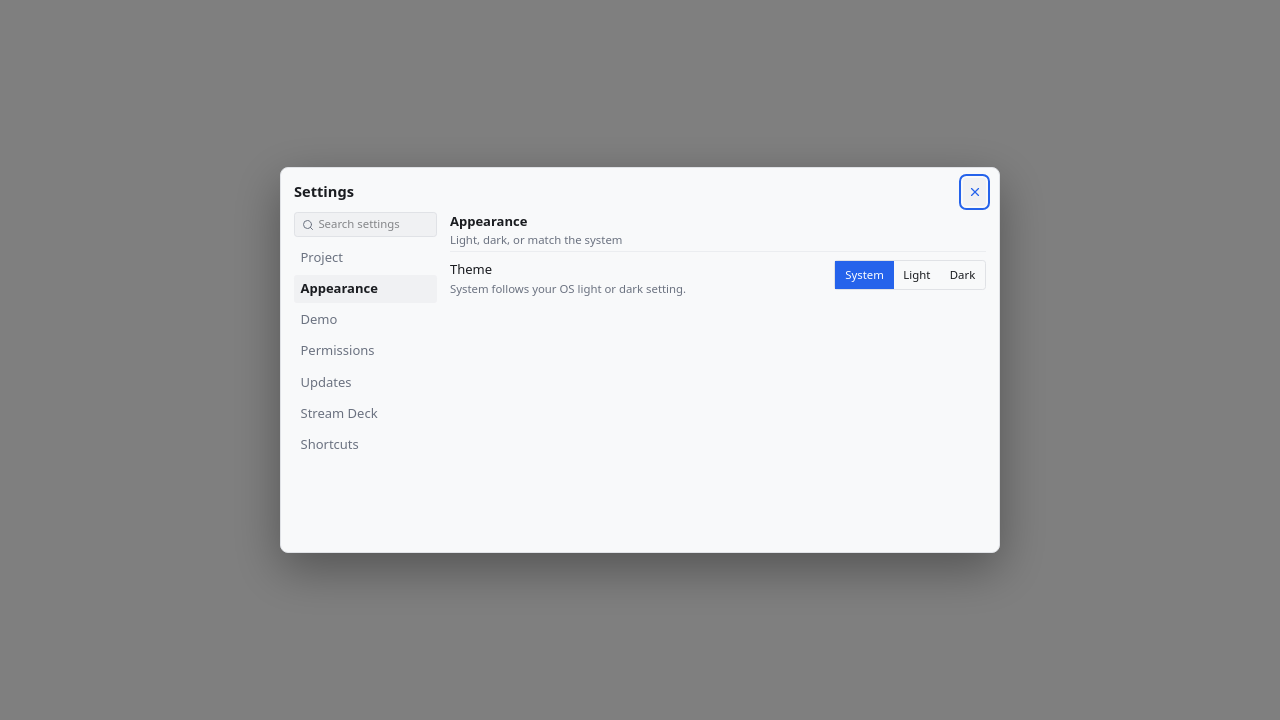
Test: SettingsDialog › shows every matching section while searching
Type "hotkeys" into the search field with test id "settings-search" at (374, 225), box [318,216,430,233]
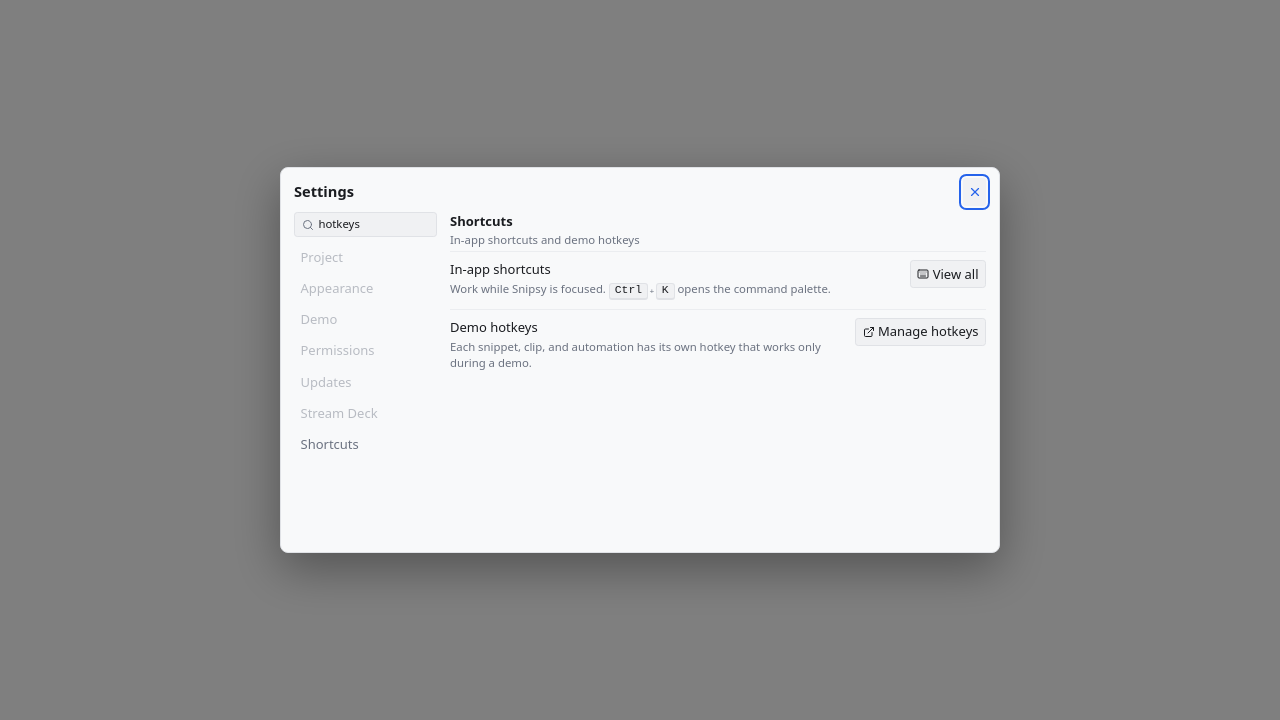
Result: the element with test id "settings-section-shortcuts" is shown at [450,212,986,379]
Result: the element with test id "settings-section-appearance" is gone
Replace the text in the search field with test id "settings-search" with "zzz" at (374, 225), box [318,216,430,233]
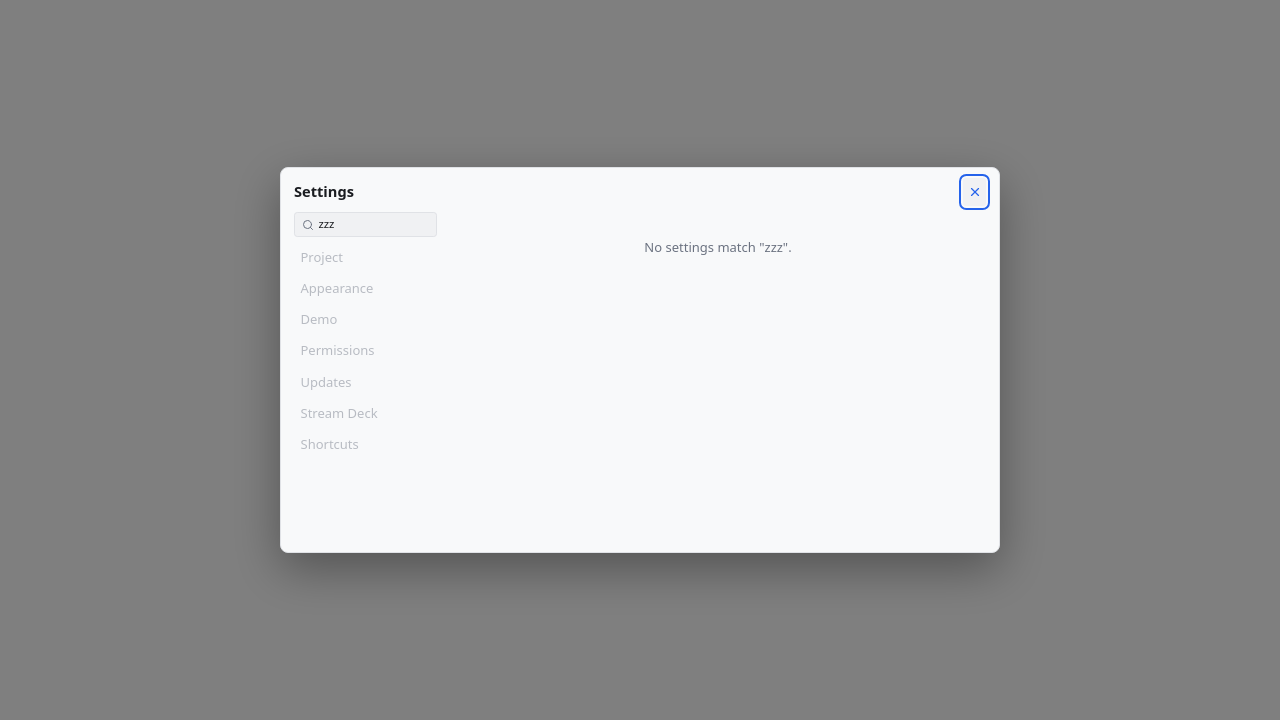
Result: the text "No settings match \"zzz\"." is shown at [644,238,792,256]
Click the button with test id "settings-nav-updates" at (366, 382), box [294,368,437,396]
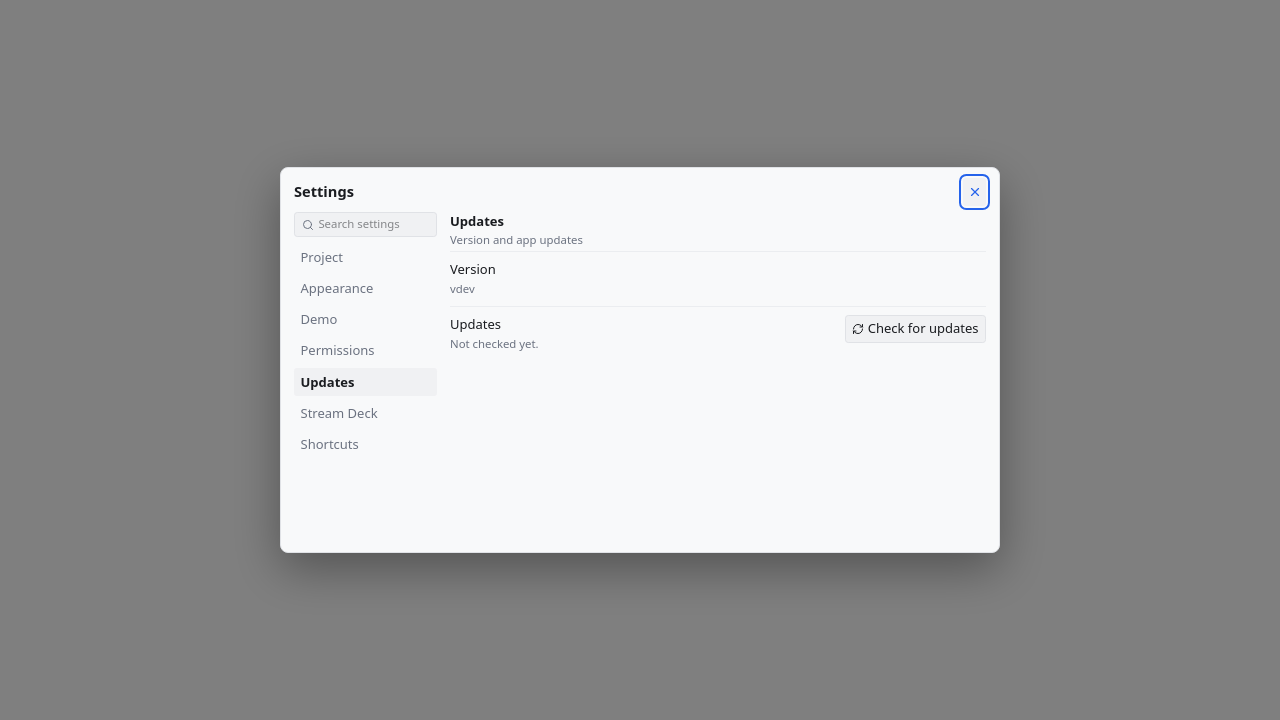
Result: the search field with test id "settings-search" is empty at [318,216,430,233]
Result: the element with test id "settings-section-updates" is shown at [450,212,986,360]
